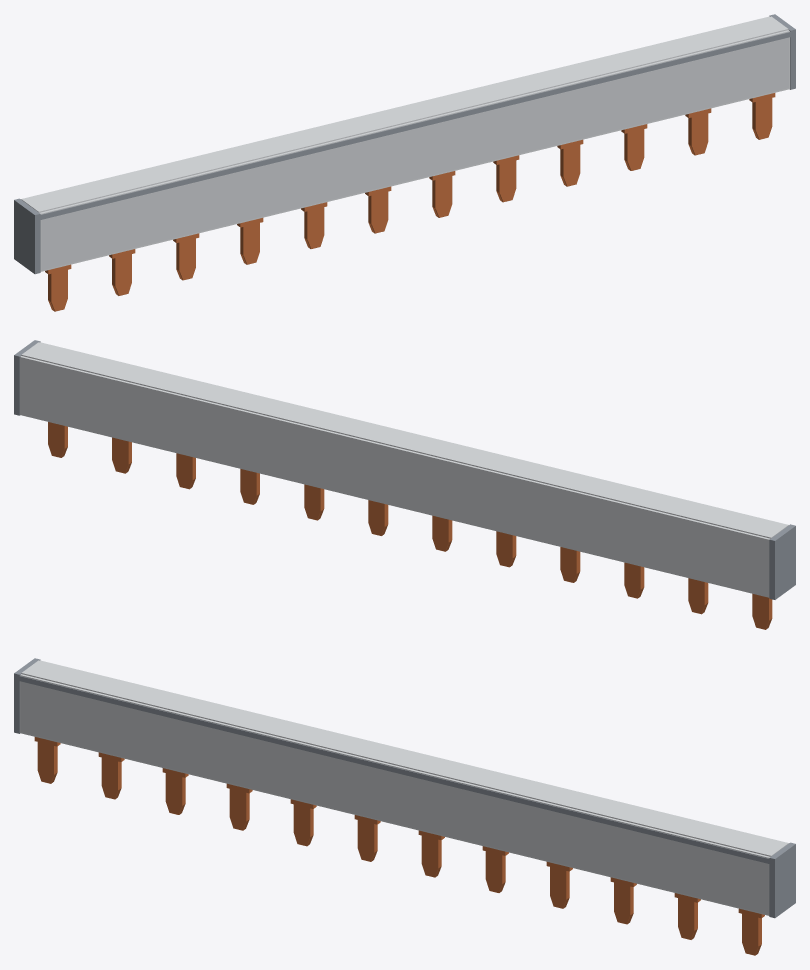
Rendered from barramento-pente.glb.
3 renders of one model, top to bottom at view 1: azimuth 30°, elevation 25°; view 2: azimuth 150°, elevation 25°; view 3: azimuth 330°, elevation 25°, orthographic.
Parts seen in each view (by area): view 1: comb-silkscreen-front, comb-pvc-spine, comb-copper-bars-pins, comb-pvc-barriers; view 2: comb-pvc-spine, comb-copper-bars-pins, comb-pvc-barriers; view 3: comb-silkscreen-front, comb-pvc-spine, comb-copper-bars-pins, comb-pvc-barriers.
Boxes of the visible parts, x1=… form: comb-silkscreen-front: x1=41, y1=38, x2=788, y2=270; comb-pvc-spine: x1=21, y1=16, x2=789, y2=271; comb-copper-bars-pins: x1=45, y1=93, x2=775, y2=311; comb-pvc-barriers: x1=14, y1=14, x2=795, y2=274; comb-pvc-spine: x1=20, y1=342, x2=788, y2=597; comb-copper-bars-pins: x1=48, y1=422, x2=772, y2=629; comb-pvc-barriers: x1=14, y1=340, x2=795, y2=599; comb-silkscreen-front: x1=21, y1=682, x2=768, y2=914; comb-pvc-spine: x1=20, y1=660, x2=788, y2=915; comb-copper-bars-pins: x1=34, y1=737, x2=764, y2=955; comb-pvc-barriers: x1=14, y1=658, x2=795, y2=918.
Bounding box in the file's own units: 0.214 × 0.0284 × 0.0102.
